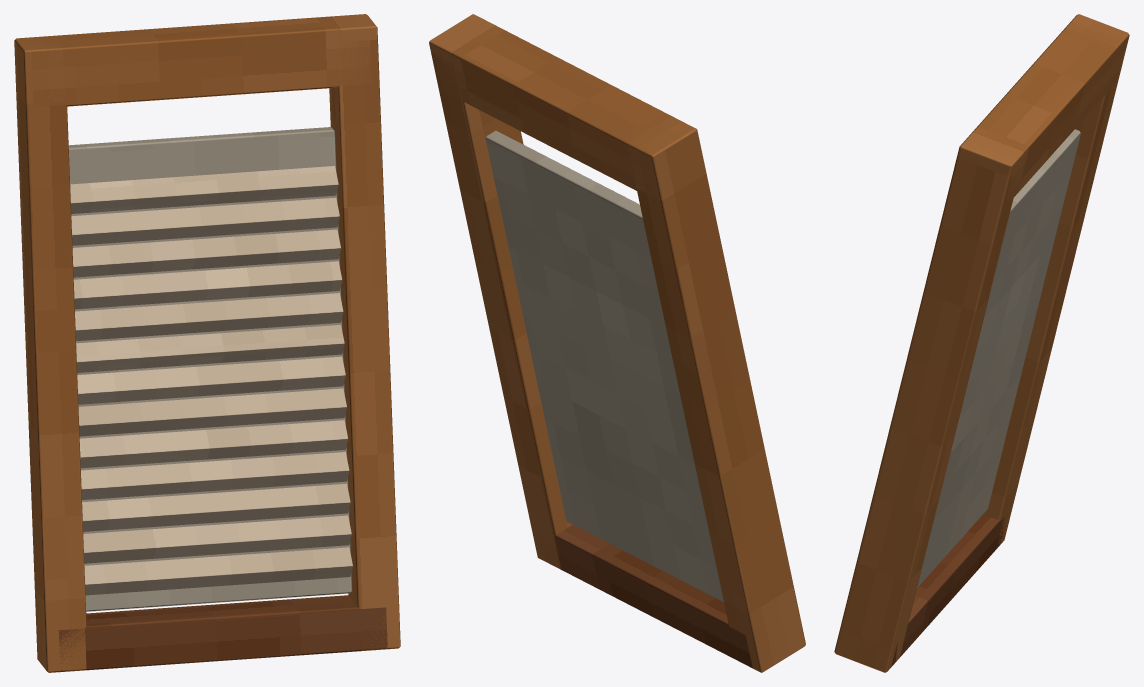
Rendered from RibbedWashBoard.glb.
3 views of the same model, side by side, from view 1: azimuth 30°, elevation 25°; view 2: azimuth 150°, elevation 25°; view 3: azimuth 270°, elevation 25° (orthographic). The views are drawn at different scales.
Visible parts, largest first — view 1: RibbedWashBoard.Corrugation, RibbedWashBoard.Wood-stile--1, RibbedWashBoard.Wood-stile-1, RibbedWashBoard.Metal-bed, RibbedWashBoard.Top-rail, RibbedWashBoard.Foot-rail; view 2: RibbedWashBoard.Metal-bed, RibbedWashBoard.Wood-stile--1, RibbedWashBoard.Wood-stile-1, RibbedWashBoard.Top-rail, RibbedWashBoard.Foot-rail; view 3: RibbedWashBoard.Wood-stile-1, RibbedWashBoard.Metal-bed, RibbedWashBoard.Wood-stile--1, RibbedWashBoard.Top-rail, RibbedWashBoard.Foot-rail.
Boxes of the visible parts, x1=… form: RibbedWashBoard.Corrugation: x1=70, y1=166, x2=352, y2=595; RibbedWashBoard.Wood-stile--1: x1=14, y1=36, x2=86, y2=672; RibbedWashBoard.Wood-stile-1: x1=329, y1=14, x2=400, y2=650; RibbedWashBoard.Metal-bed: x1=68, y1=127, x2=352, y2=611; RibbedWashBoard.Top-rail: x1=31, y1=16, x2=371, y2=106; RibbedWashBoard.Foot-rail: x1=58, y1=595, x2=387, y2=672; RibbedWashBoard.Metal-bed: x1=485, y1=130, x2=723, y2=602; RibbedWashBoard.Wood-stile--1: x1=627, y1=116, x2=805, y2=672; RibbedWashBoard.Wood-stile-1: x1=429, y1=14, x2=572, y2=569; RibbedWashBoard.Top-rail: x1=433, y1=26, x2=684, y2=200; RibbedWashBoard.Foot-rail: x1=541, y1=525, x2=752, y2=668; RibbedWashBoard.Wood-stile-1: x1=834, y1=131, x2=1024, y2=672; RibbedWashBoard.Metal-bed: x1=917, y1=129, x2=1080, y2=587; RibbedWashBoard.Wood-stile--1: x1=983, y1=14, x2=1129, y2=546; RibbedWashBoard.Top-rail: x1=965, y1=28, x2=1127, y2=207; RibbedWashBoard.Foot-rail: x1=891, y1=514, x2=1006, y2=667.
Bounding box in the file's own units: 0.3743 × 0.5849 × 0.2901.
Materials: 4 (4 with a texture image).
